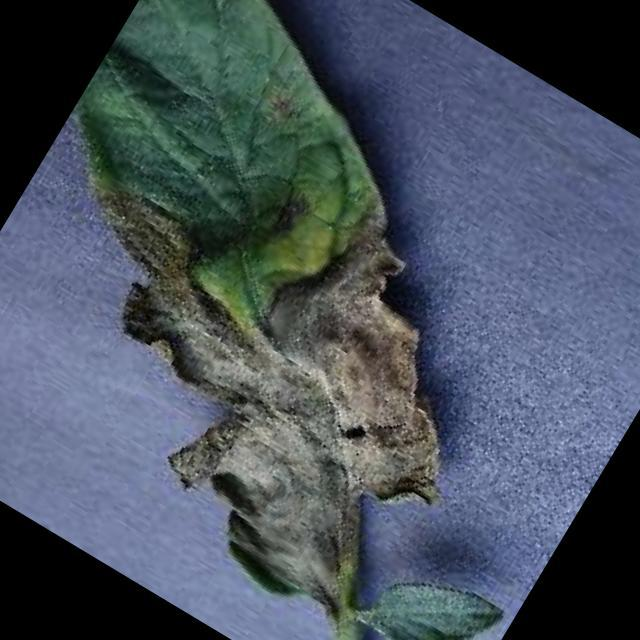Tomato healthy leaf: (361, 548, 508, 640)
Tomato late blight leaf: (0, 0, 631, 640)
